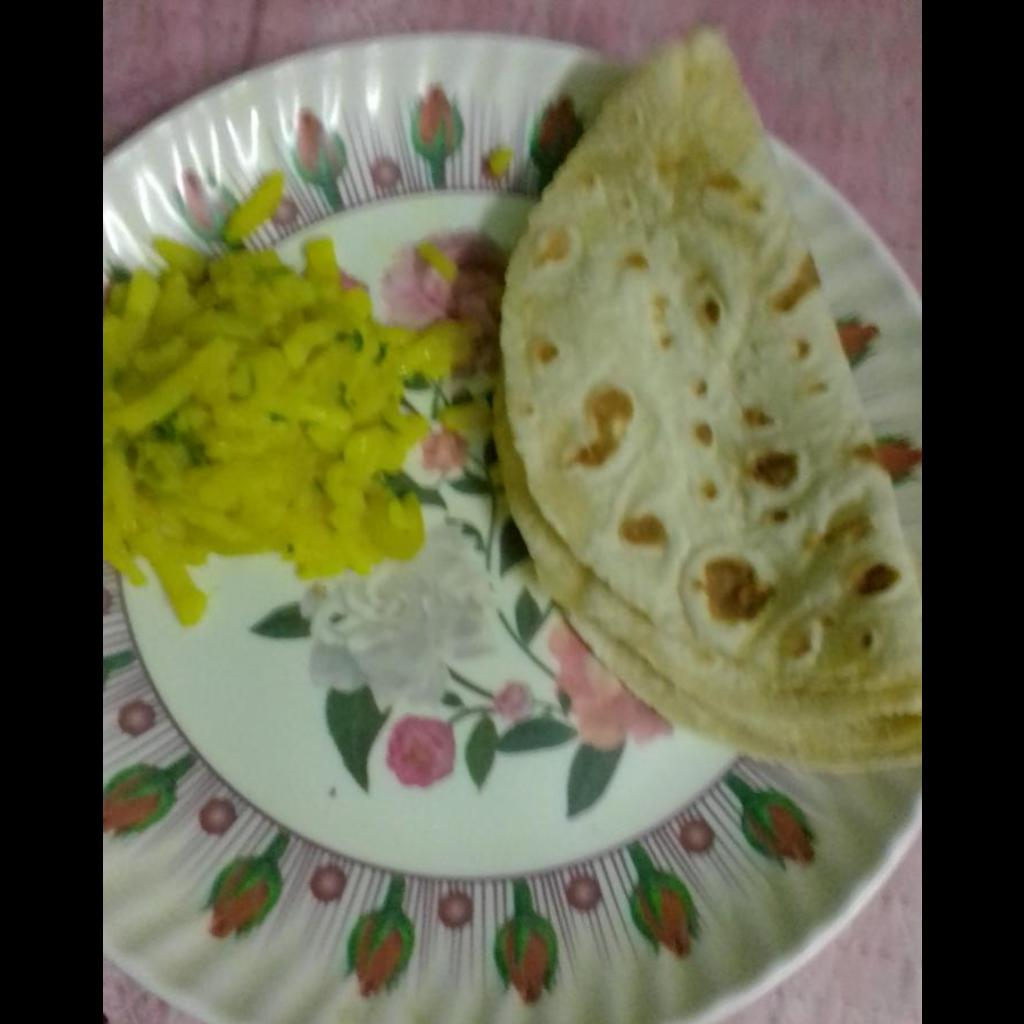ruti: (502, 25, 920, 769)
vaji: (102, 235, 421, 609)
